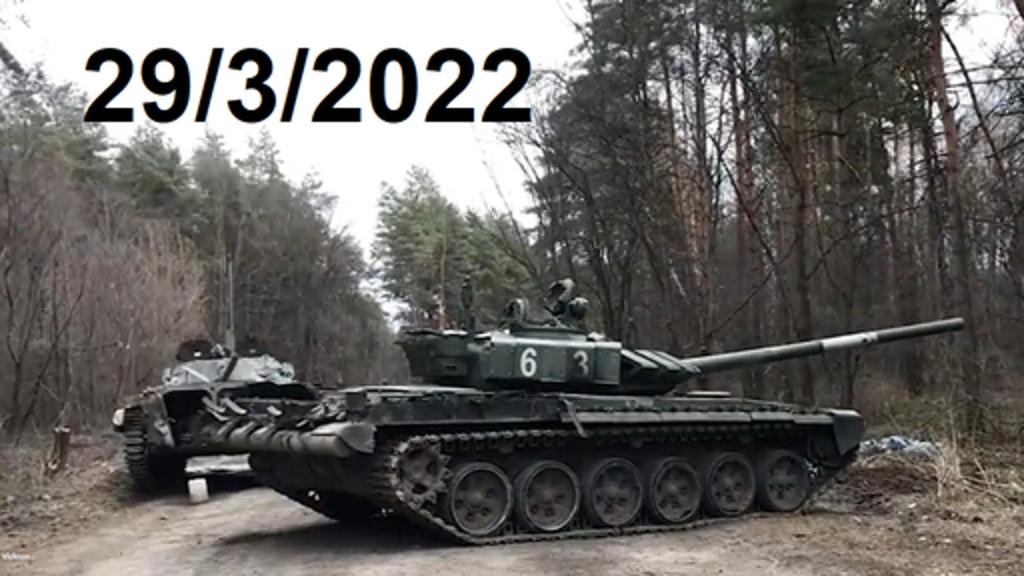APC-IFV: (108, 342, 318, 488)
TANK: (208, 304, 970, 538)
